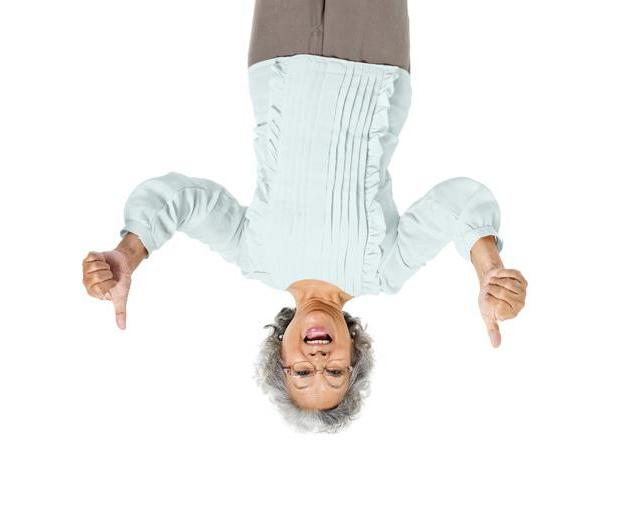thumbsdown: (82, 251, 128, 331), (484, 268, 528, 349)
